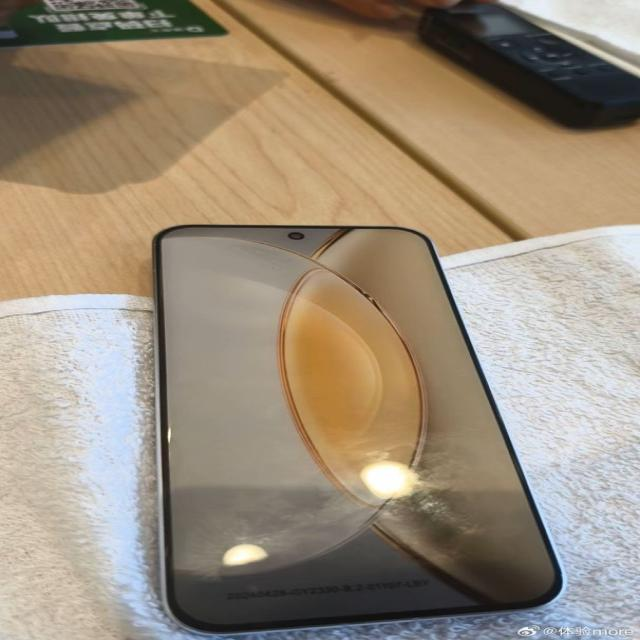mobile_phone: (103, 209, 613, 625)
